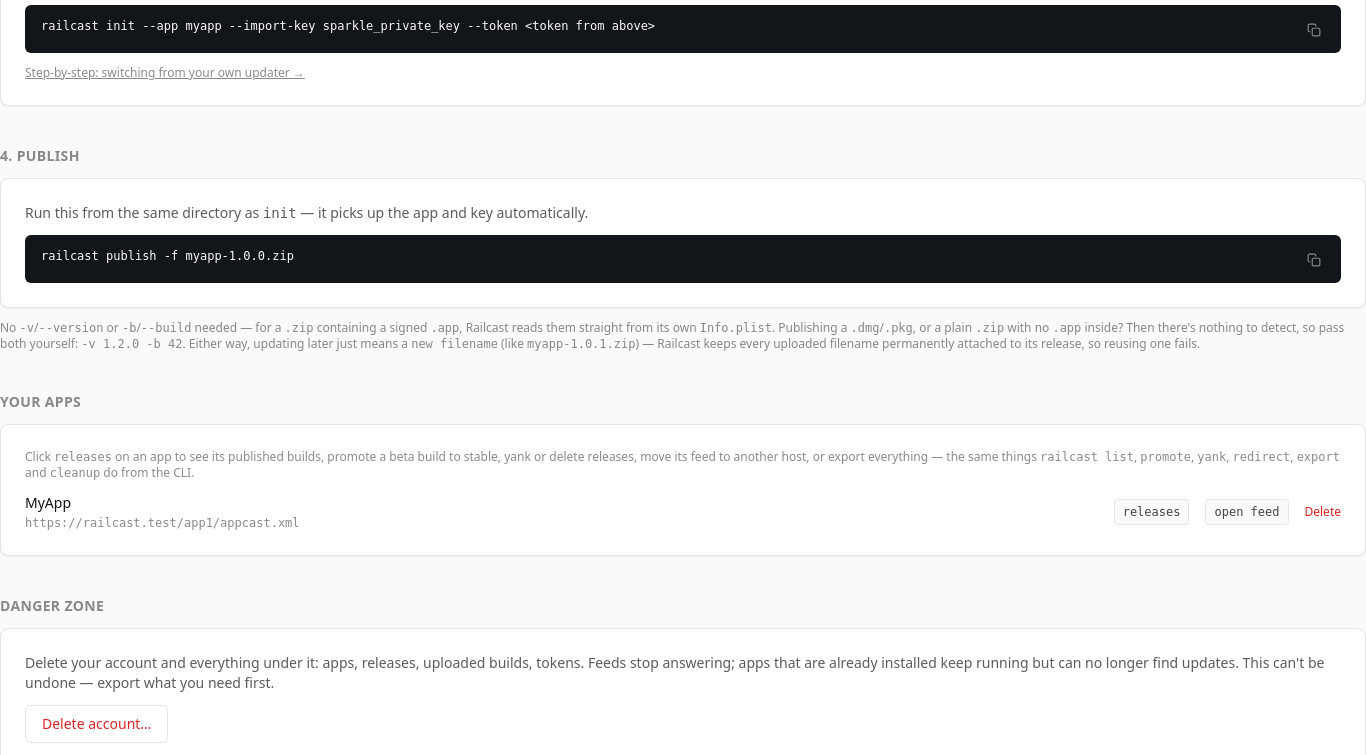
yank / restore › hides the release and offers Restore, which needs no confirmation
(page scrolled)
Click the button "releases": (1152, 512) [1114,499,1190,525]
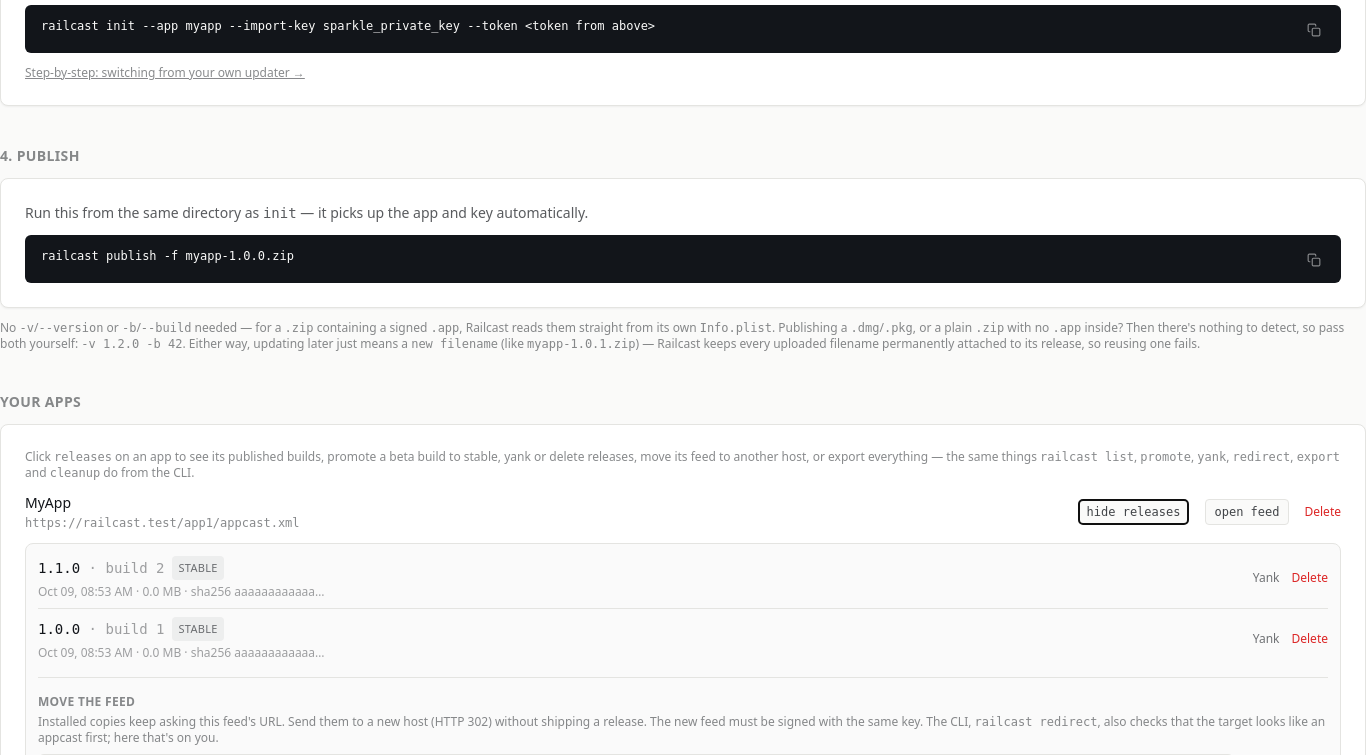
Expected: the text "1.1.0 · build 2" is shown, [38,558,164,578]
Click the button with aria-label "Yank 1.1.0 (stable)": (1266, 578) [1253,570,1280,586]
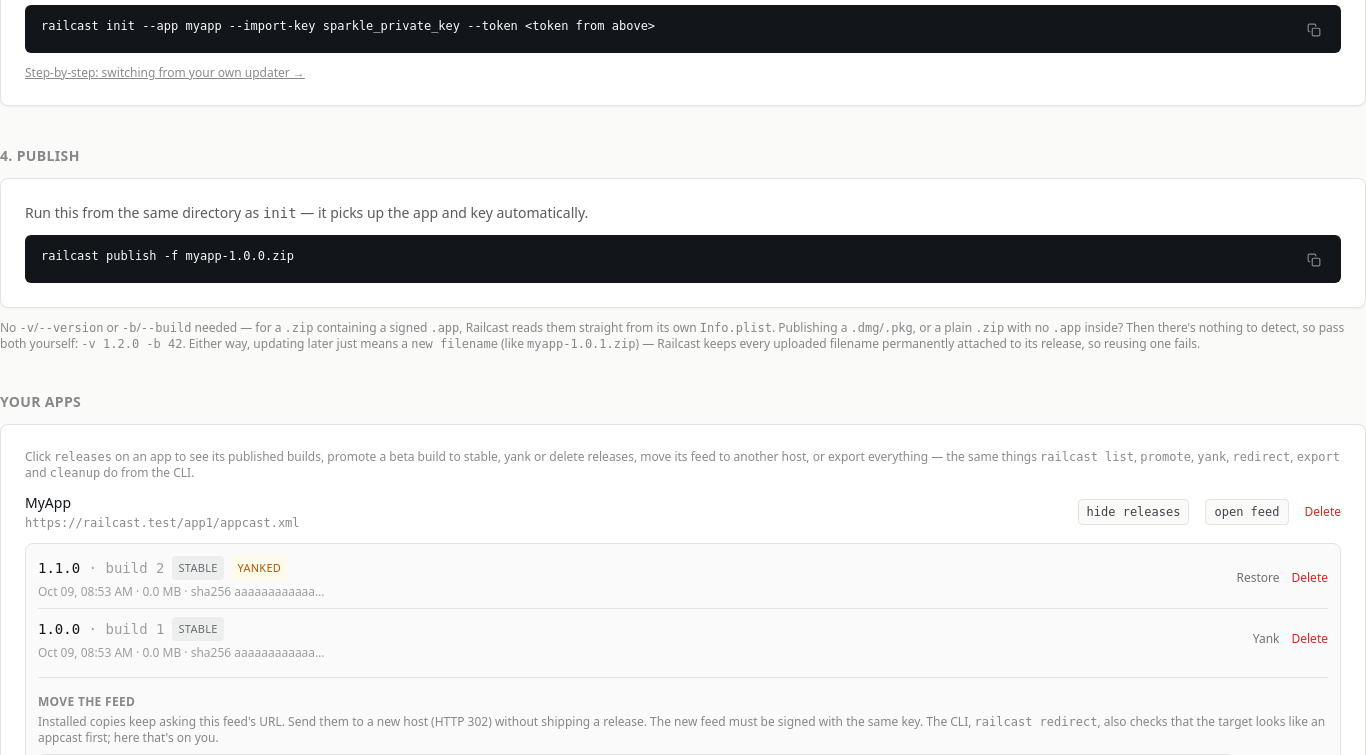
Expected: the button with aria-label "Yank 1.0.0 (stable)" is shown, [1253,631,1280,647]
Expected: the text "yanked" is shown, [232,556,287,580]
Click the button with aria-label "Restore 1.1.0 (stable)": (1258, 578) [1236,570,1280,586]
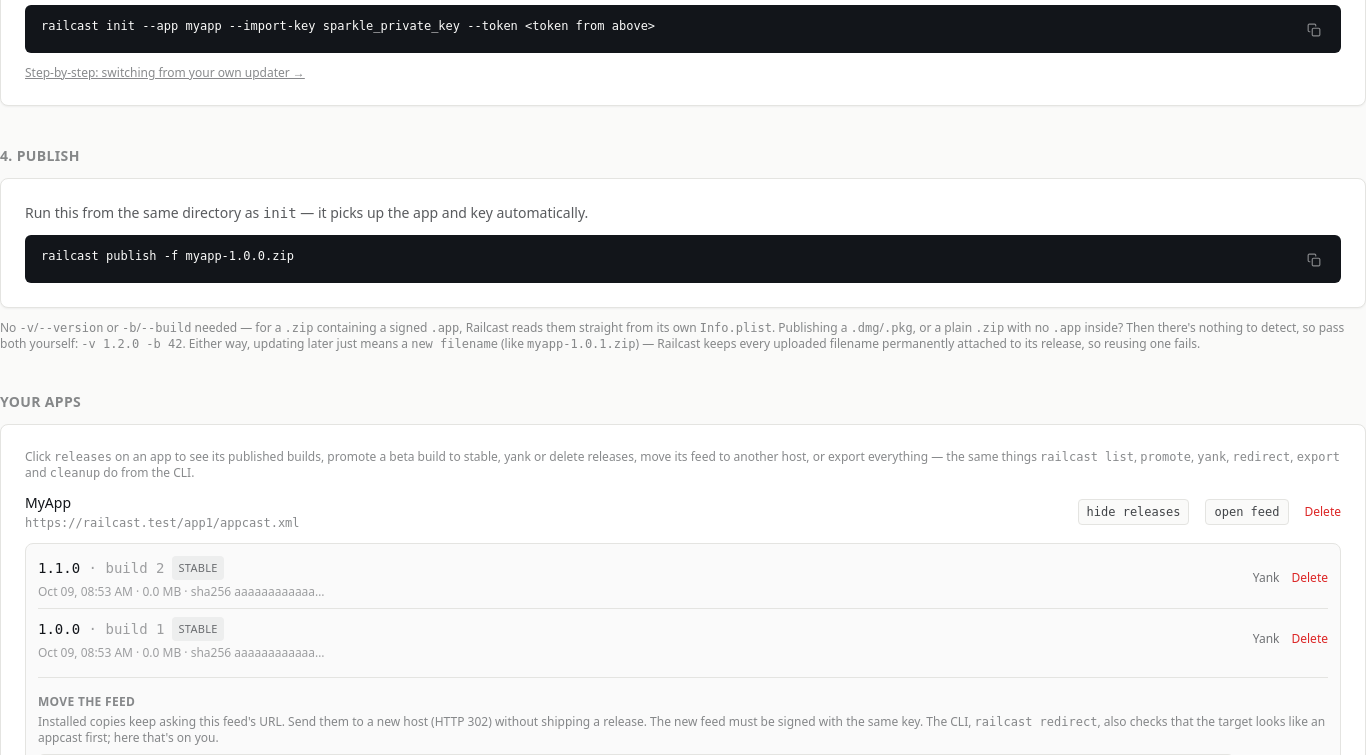
Expected: the text "yanked" is gone
Expected: the button with aria-label "Yank 1.1.0 (stable)" is shown, [1253,570,1280,586]
